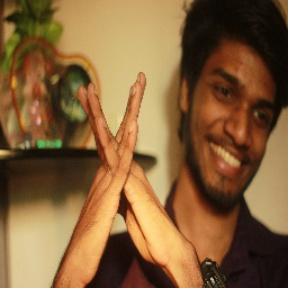W: (60, 64, 186, 268)
